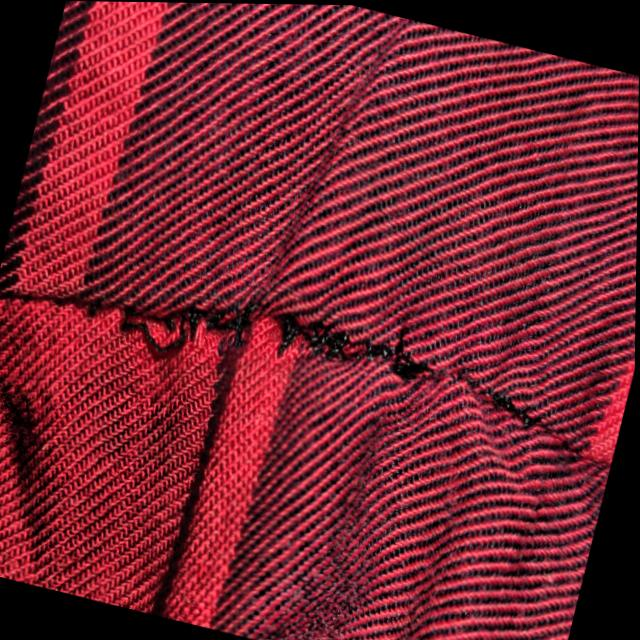Stitch: (86, 233, 530, 480)
